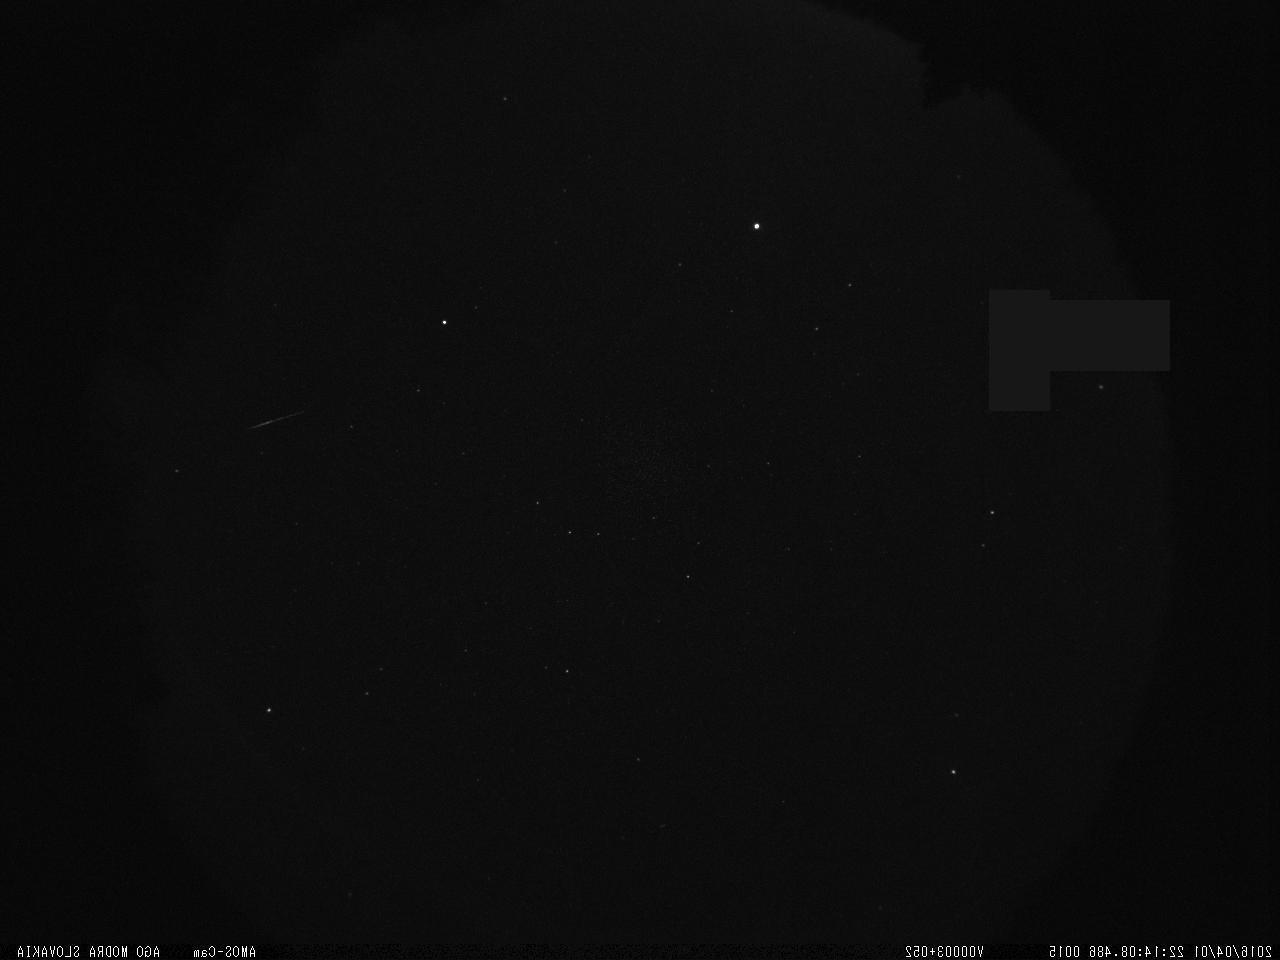meteor: (243, 400, 312, 437)
